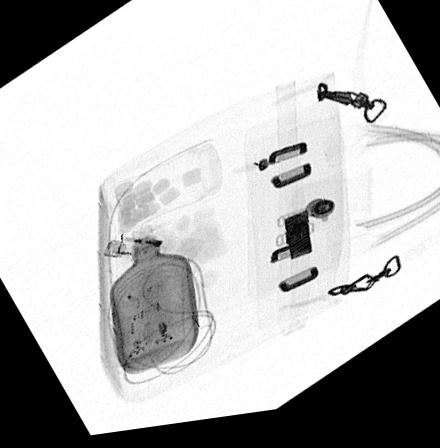Lighter: (101, 234, 201, 270)
